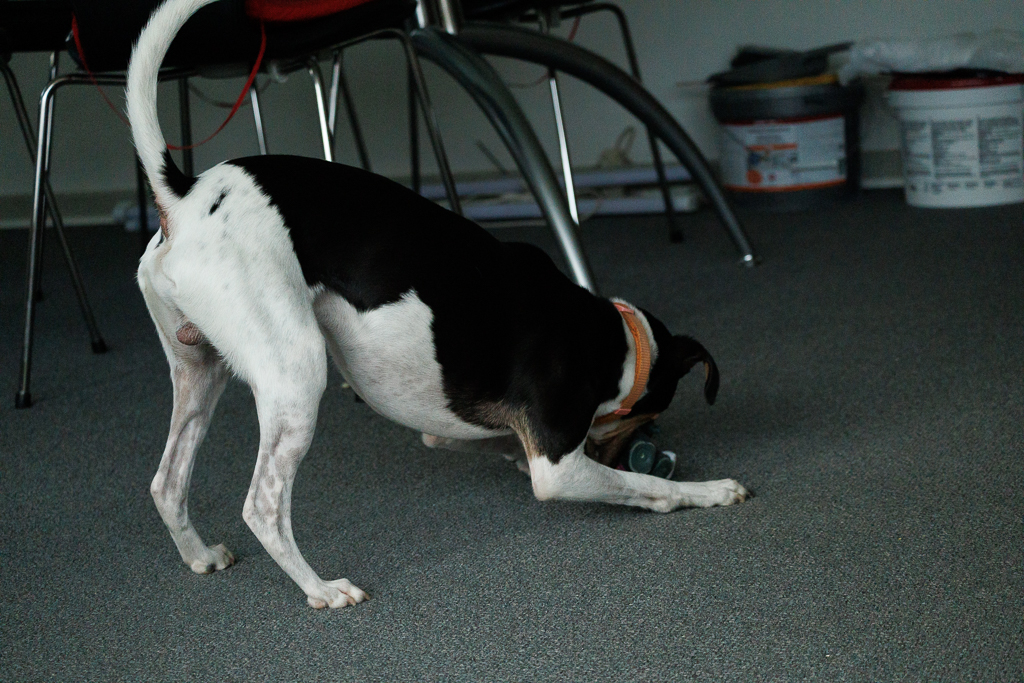Dog: (116, 0, 759, 613)
Humanoid: (549, 413, 694, 494)
